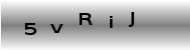5: (23, 21, 37, 36)
J: (127, 10, 135, 28)
R: (78, 13, 93, 26)
i: (108, 15, 113, 29)
v: (48, 23, 64, 34)
